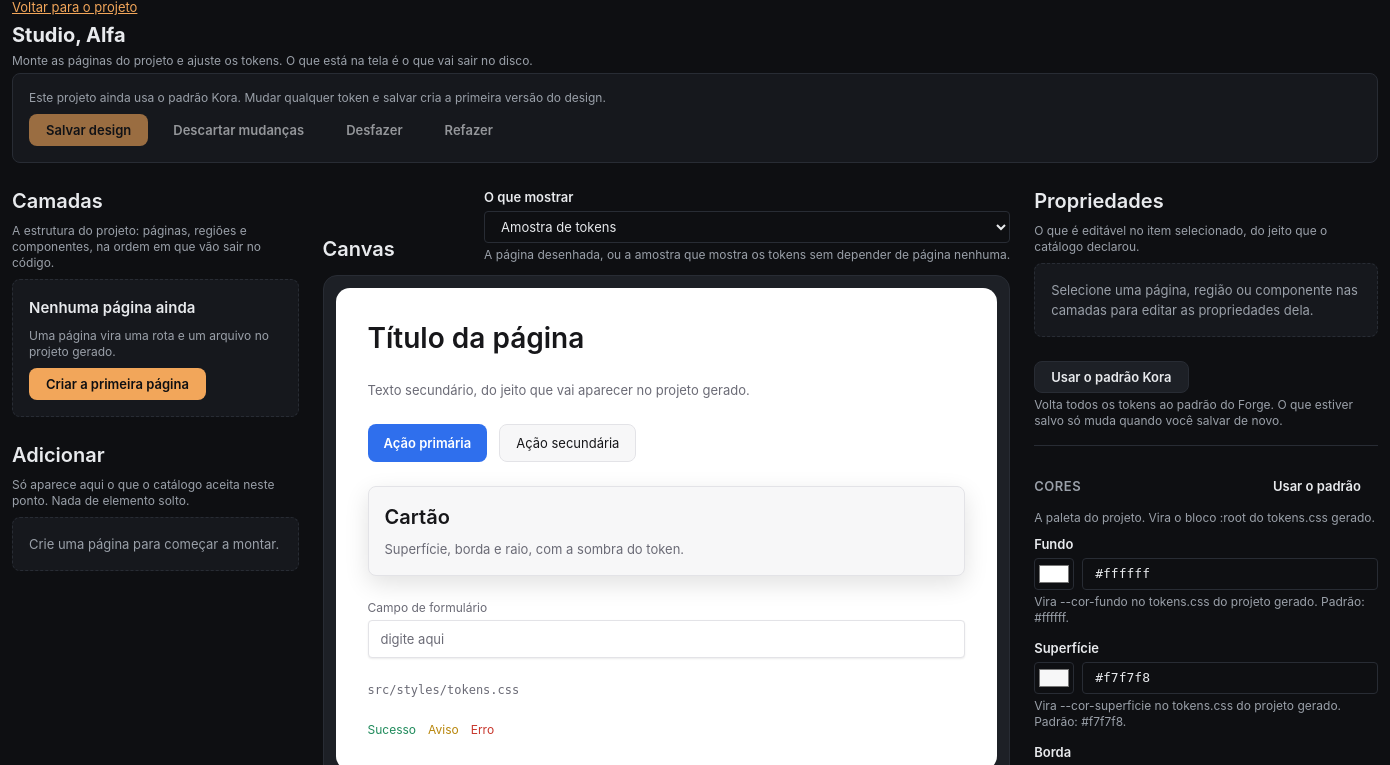
Test case: montar a estrutura › criar a primeira página põe a página na árvore e já a deixa selecionada
(page scrolled)
What coordinates should you click on to do the following:
click the button "Criar a primeira página"
I would click on:
 (117, 384)
Its box is left=29, top=368, right=206, bottom=400.
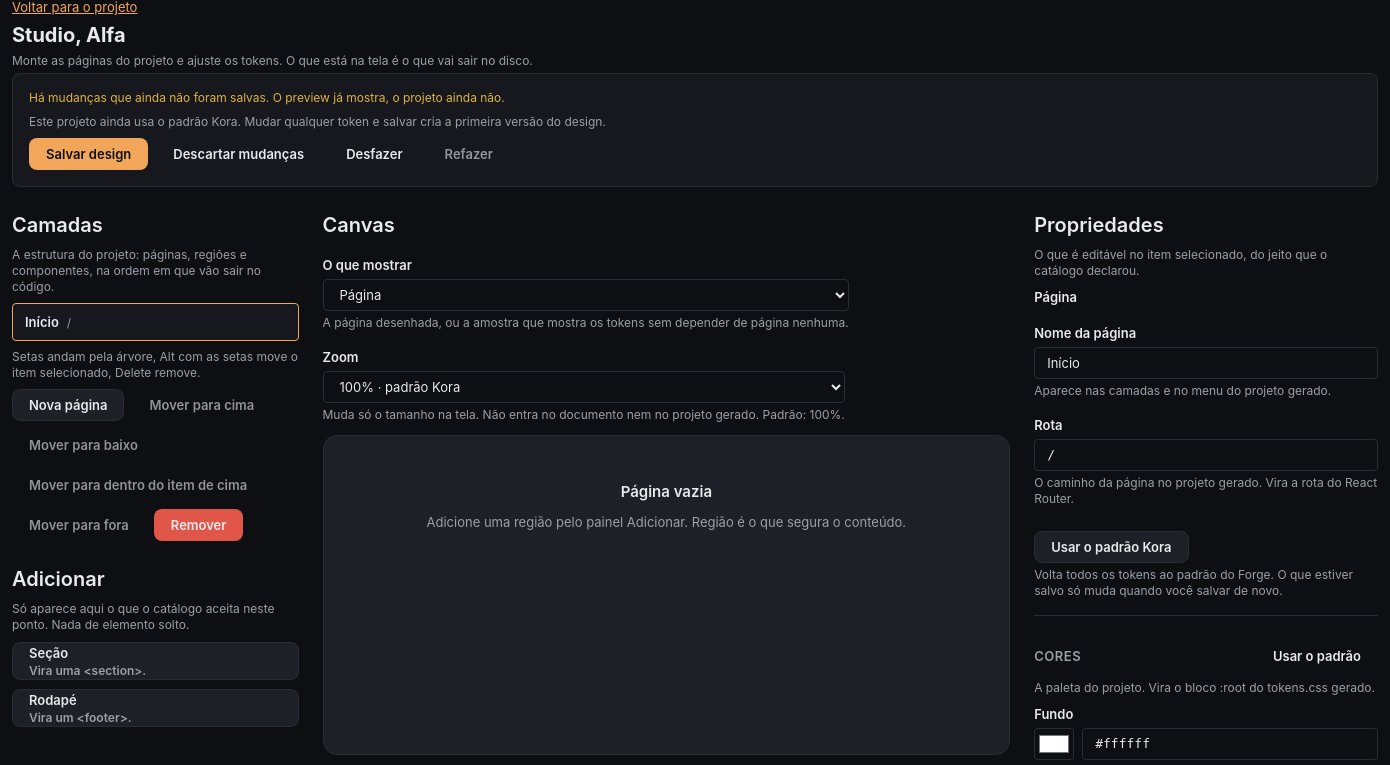
Expected: the field labelled "Nome da página" holds "Início", left=1034, top=347, right=1378, bottom=379
Expected: the field labelled "Rota" holds "/", left=1034, top=439, right=1378, bottom=471
